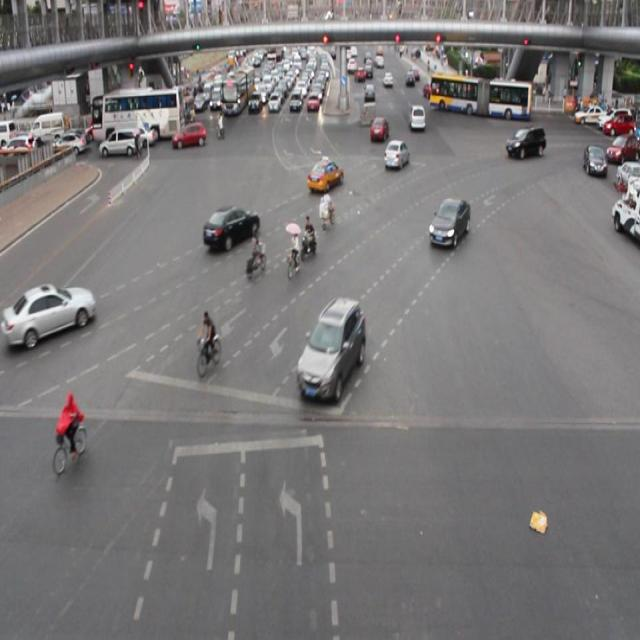car: (295, 296, 366, 399), (1, 280, 97, 347), (202, 201, 260, 256), (427, 193, 472, 251), (305, 154, 344, 193), (504, 126, 544, 161), (382, 138, 408, 170), (368, 115, 389, 143)
